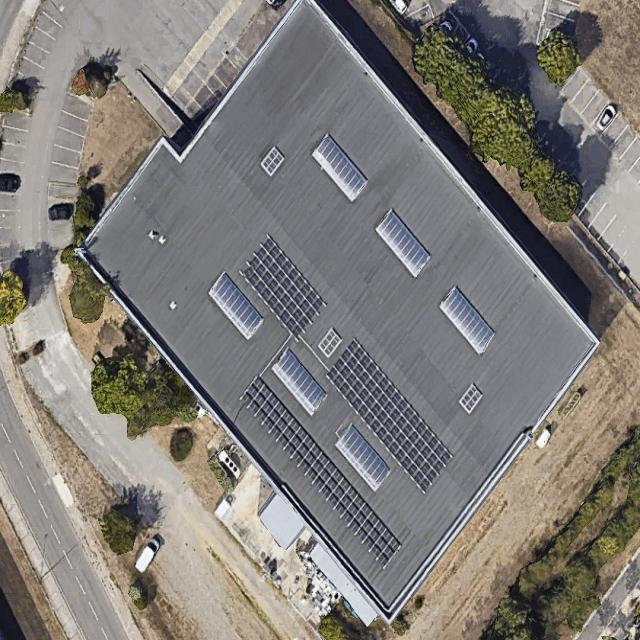immeuble: (15, 0, 640, 640)
